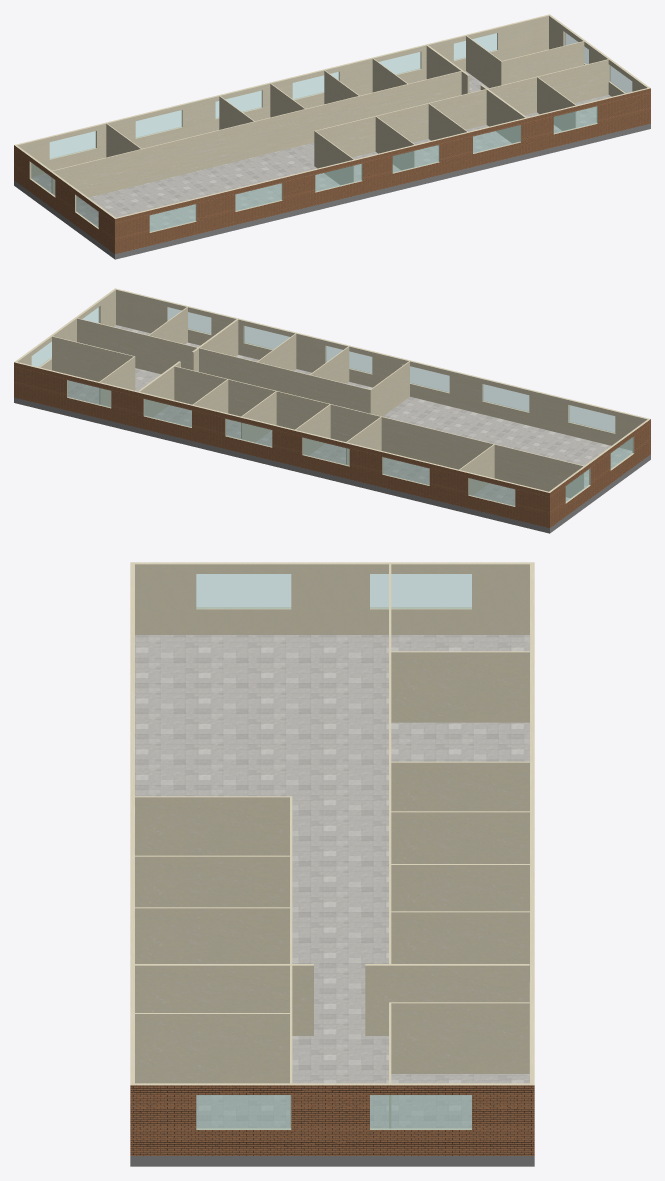
The picture shows the model from 3 angles, top to bottom: view 1: azimuth 30°, elevation 25°; view 2: azimuth 150°, elevation 25°; view 3: azimuth 270°, elevation 25°; orthographic projection. The views are drawn at different scales.
Visible parts, largest first — view 1: Box002, erlouwaiqiang, erlouneiqiang, erloudimian, erlouboli, erlouduanzi; view 2: Box002, erlouwaiqiang, erlouneiqiang, erlouboli, erloudimian, erlouduanzi; view 3: Box002, erloudimian, erlouneiqiang, erlouwaiqiang, erlouboli, erlouduanzi.
Part boxes in pixels (x1=…): Box002: x1=51, y1=36, x2=608, y2=200; erlouwaiqiang: x1=14, y1=88, x2=650, y2=254; erlouneiqiang: x1=14, y1=14, x2=650, y2=232; erloudimian: x1=31, y1=71, x2=611, y2=231; erlouboli: x1=31, y1=32, x2=632, y2=232; erlouduanzi: x1=14, y1=123, x2=650, y2=259; Box002: x1=52, y1=307, x2=584, y2=497; erlouwaiqiang: x1=14, y1=362, x2=650, y2=528; erlouneiqiang: x1=14, y1=288, x2=650, y2=506; erlouboli: x1=31, y1=307, x2=632, y2=506; erloudimian: x1=68, y1=325, x2=632, y2=505; erlouduanzi: x1=14, y1=397, x2=650, y2=533; Box002: x1=135, y1=564, x2=529, y2=1128; erloudimian: x1=135, y1=635, x2=529, y2=1127; erlouneiqiang: x1=130, y1=562, x2=534, y2=1129; erlouwaiqiang: x1=130, y1=1085, x2=534, y2=1155; erlouboli: x1=196, y1=574, x2=471, y2=1129; erlouduanzi: x1=130, y1=1156, x2=534, y2=1166.
Bounding box in the file's own units: 497 × 35.97 × 162.
5 materials, 3 textured.
